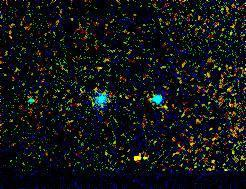star: (127, 143, 157, 173)
